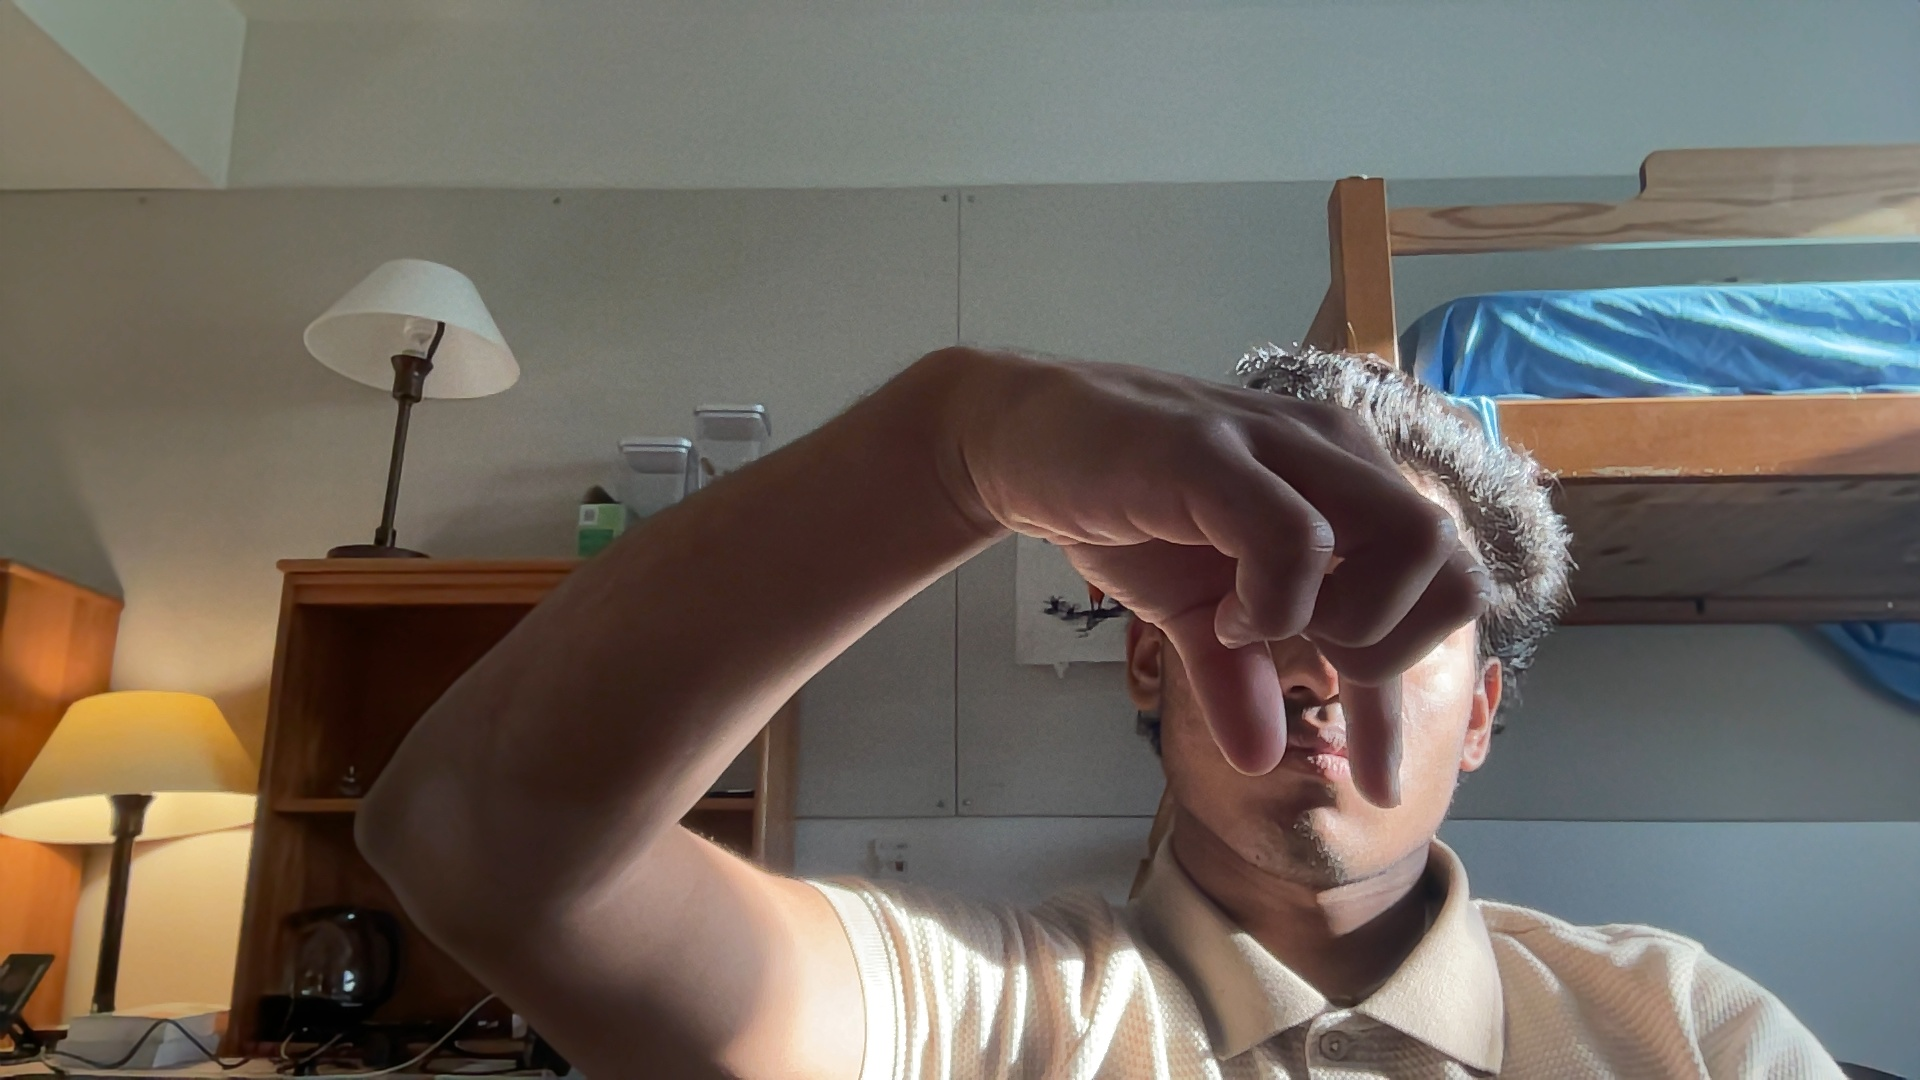q: (977, 363, 1491, 808)
